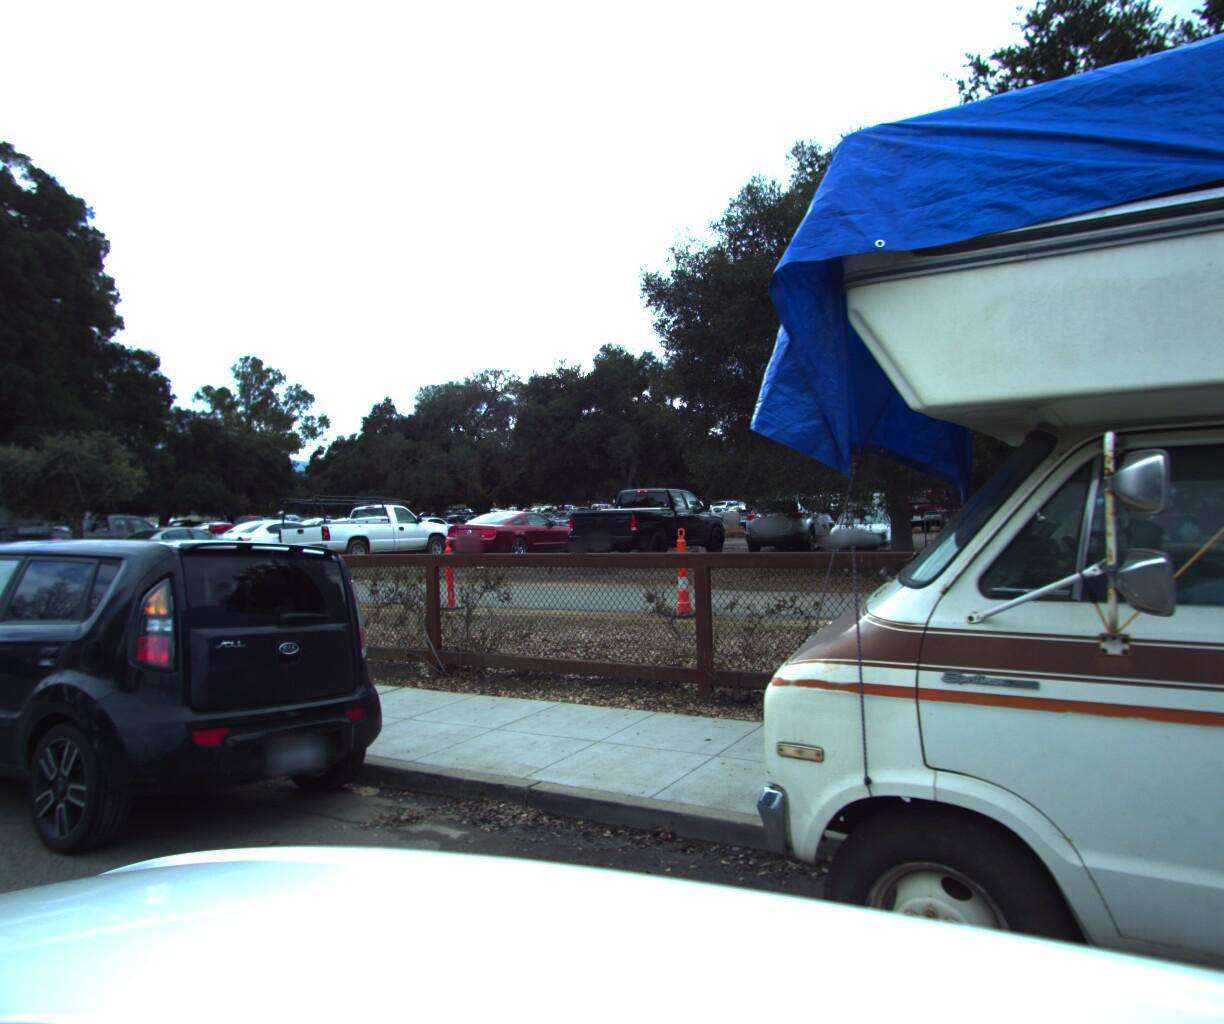car: (0, 514, 420, 911), (1, 504, 192, 573), (0, 515, 104, 574), (0, 525, 19, 780)
